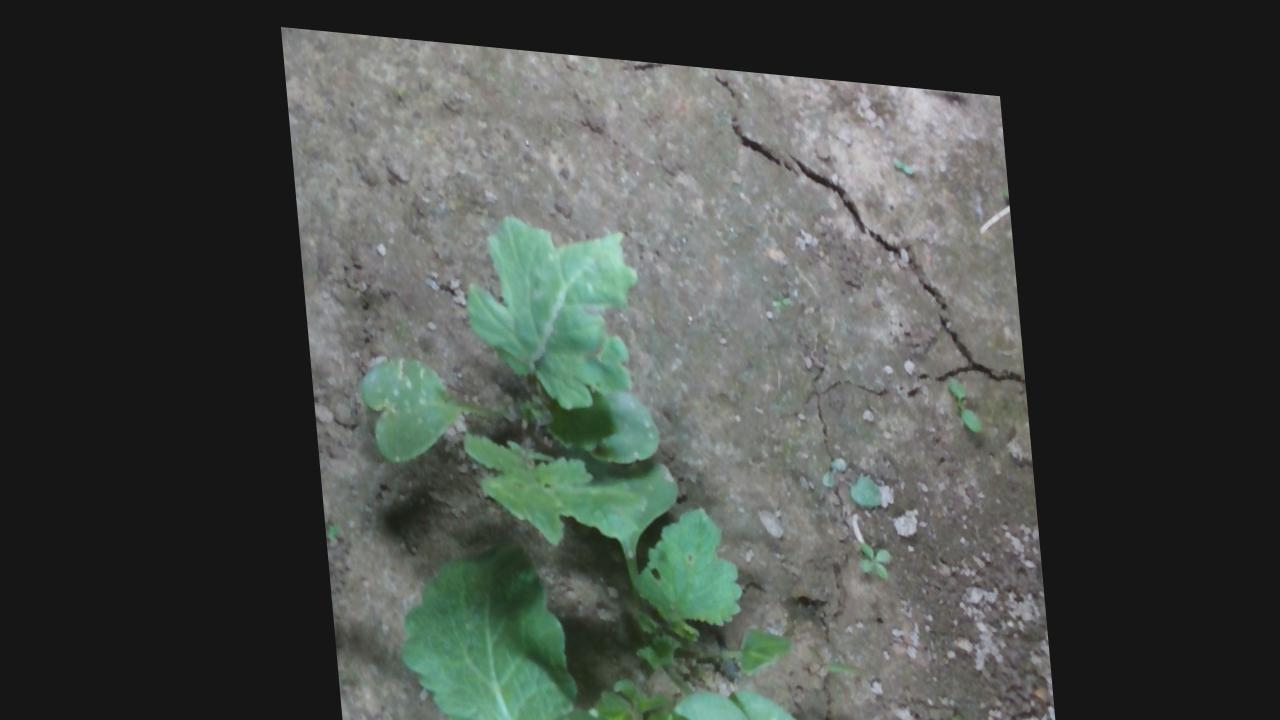weed: (941, 357, 979, 415), (846, 520, 888, 564), (922, 690, 959, 719)
